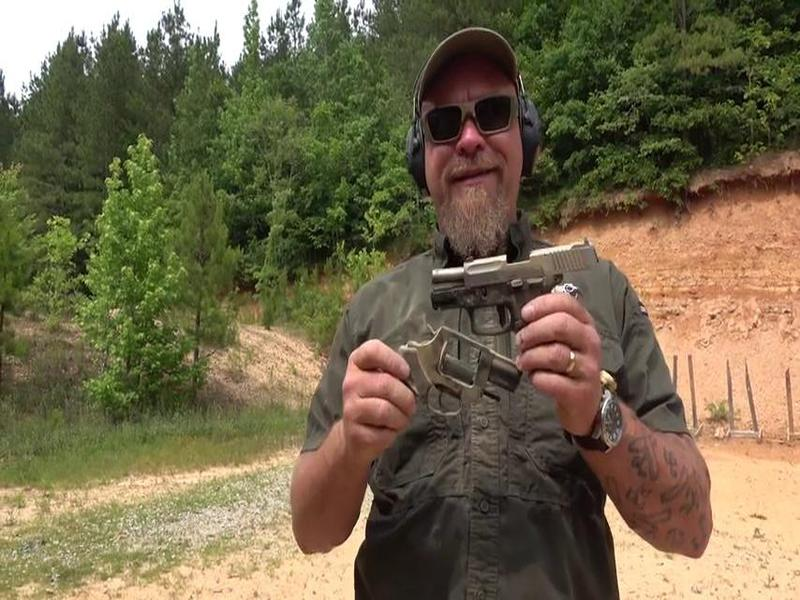Pistola: (428, 232, 607, 362)
Revolver: (369, 319, 538, 445)
